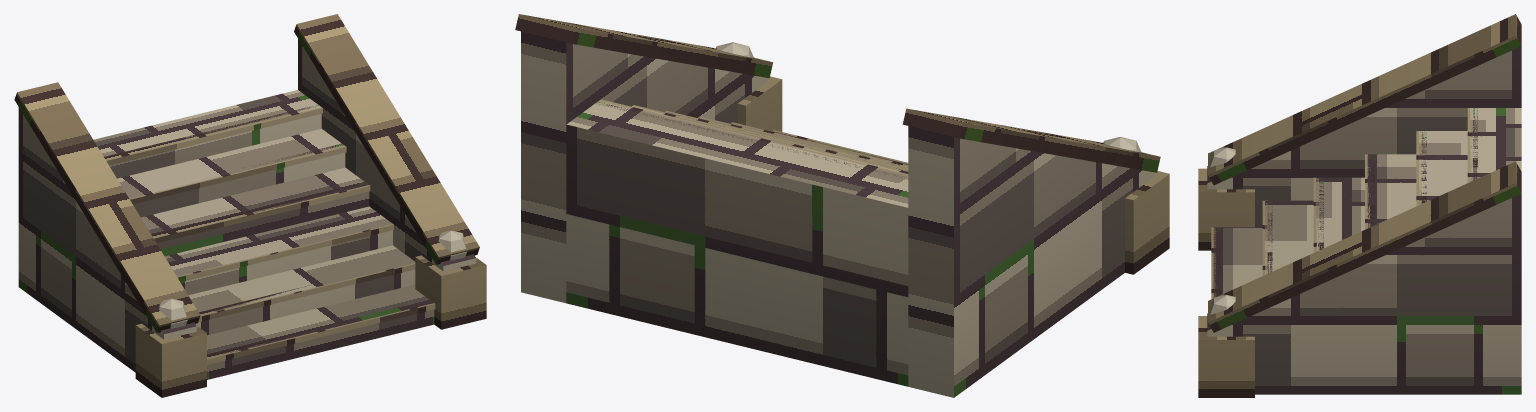
The model's file is stairs_2.4x1.2.glb.
The picture shows the model from 3 angles, left to right: view 1: azimuth 30°, elevation 25°; view 2: azimuth 150°, elevation 25°; view 3: azimuth 270°, elevation 25°; orthographic projection. The views are drawn at different scales.
Parts seen in each view (by area): view 1: stairs_2.4x1.2; view 2: stairs_2.4x1.2; view 3: stairs_2.4x1.2.
Part boxes in pixels (x1,y1,x2,y2): stairs_2.4x1.2: [14, 14, 486, 397]; stairs_2.4x1.2: [515, 14, 1169, 397]; stairs_2.4x1.2: [1198, 14, 1521, 397].
Bounding box in the file's own units: 3.16 × 1.84 × 2.52.
2 materials, 1 textured.
